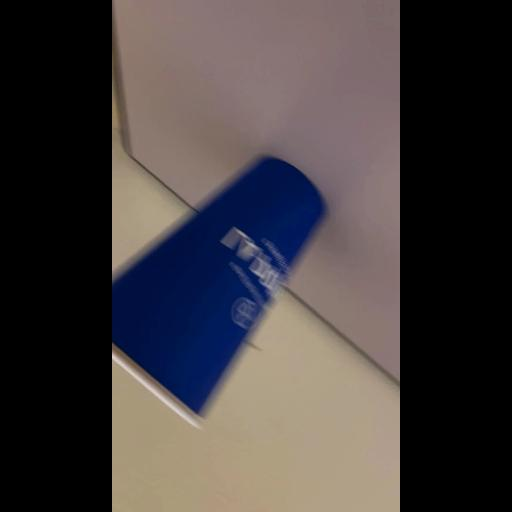lp_paper_cup: (112, 158, 322, 426)
